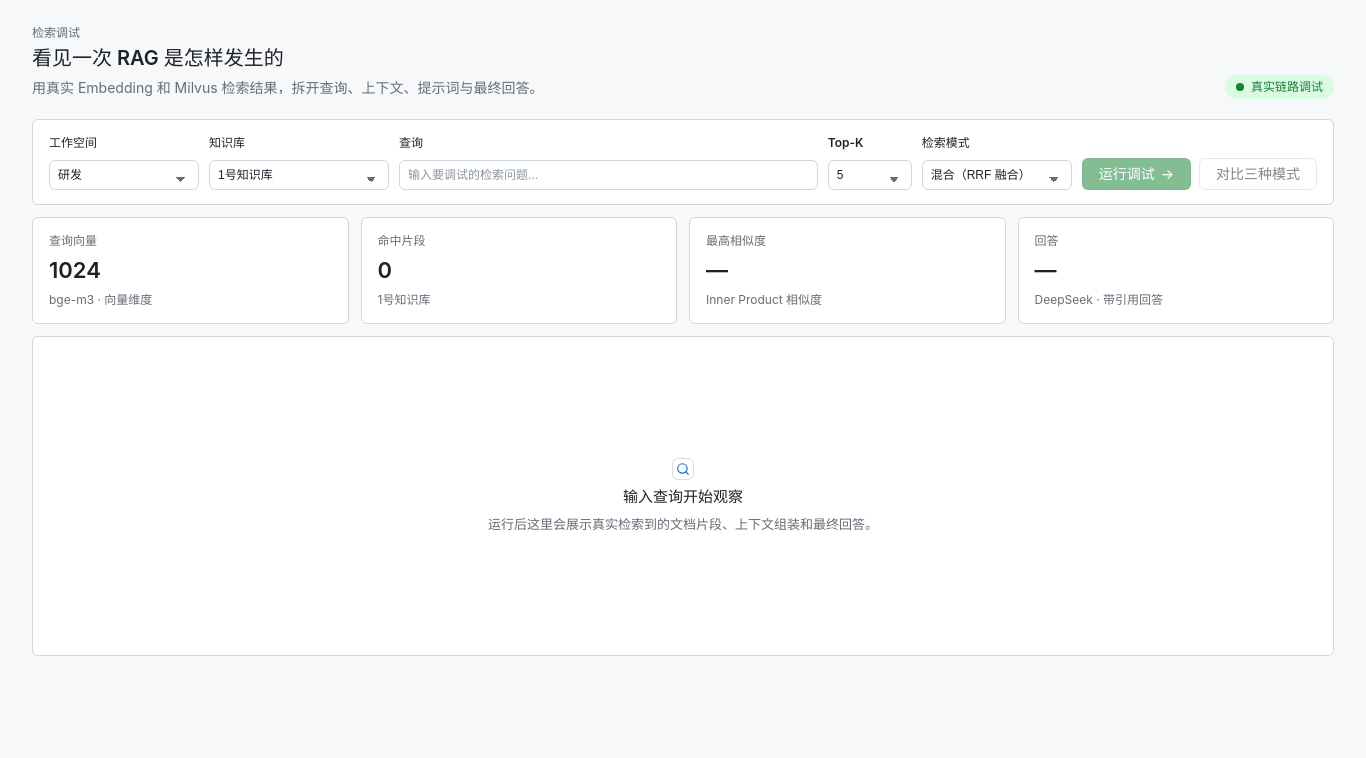
Test: 检索调试保留所选模式的结果，并把 Top-K 发给后端
Type "发布规则" into the field labelled "查询" at (608, 175), box [399,160,818,190]
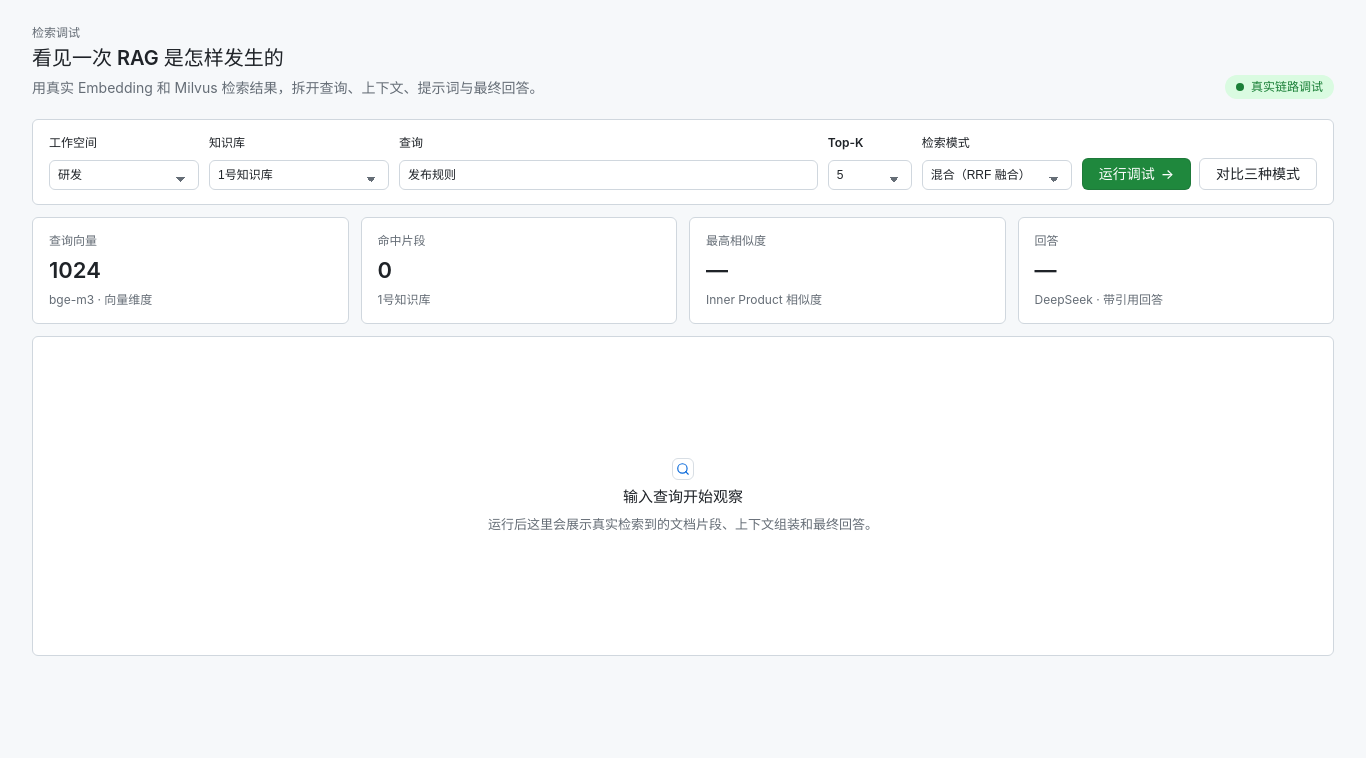
Select "10" in the dropdown labelled "Top-K" at (870, 175), box [828,160,912,190]
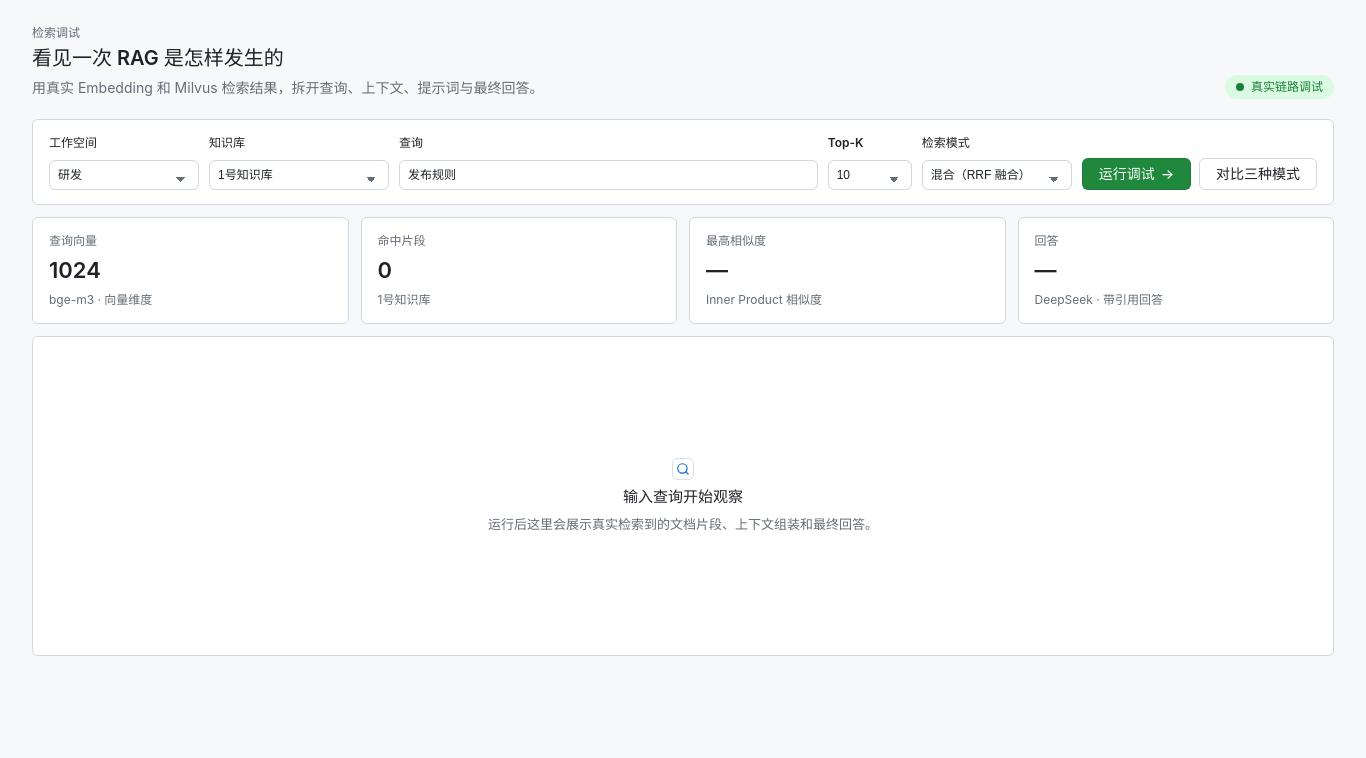
Select "BM25 关键词" in the dropdown labelled "检索模式" at (997, 175), box [922,160,1072,190]
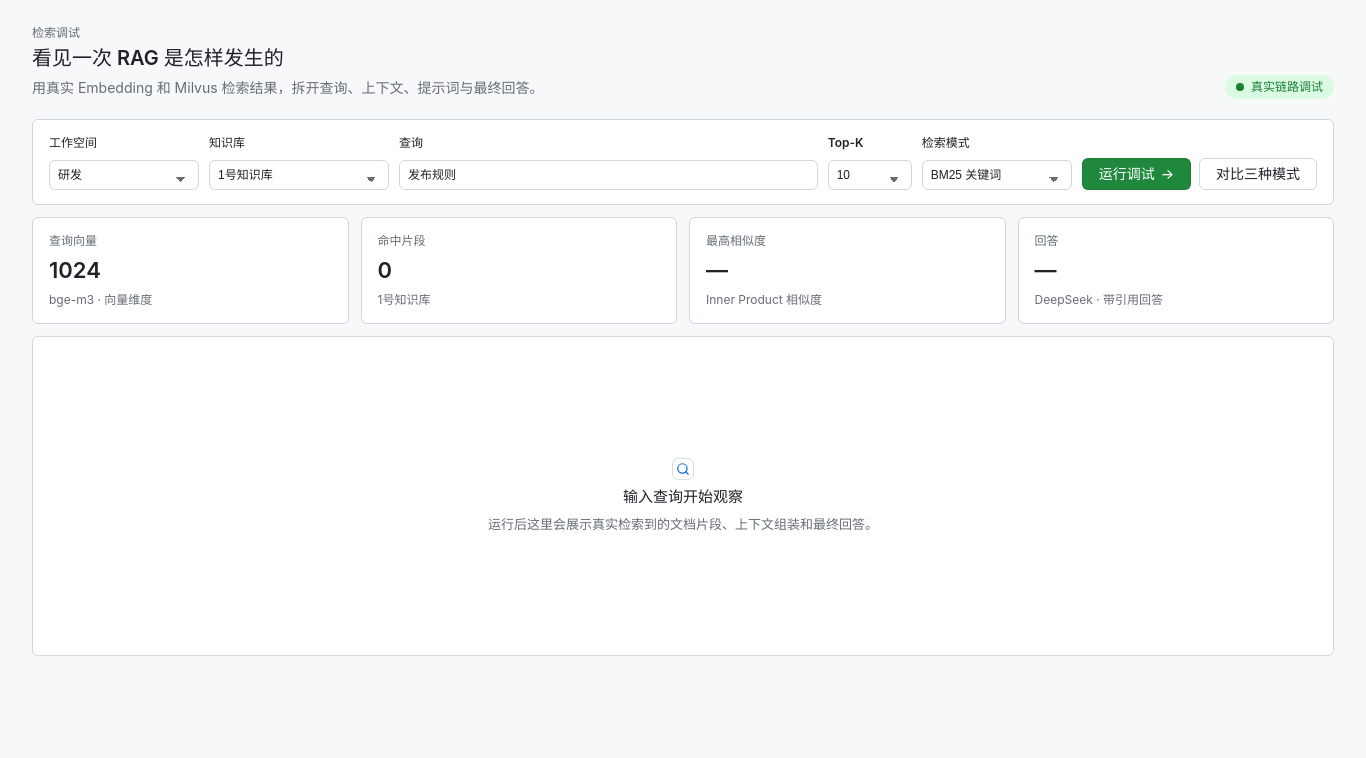
Click the button with class "retrieval-run" at (1136, 174), box [1082,158,1191,190]
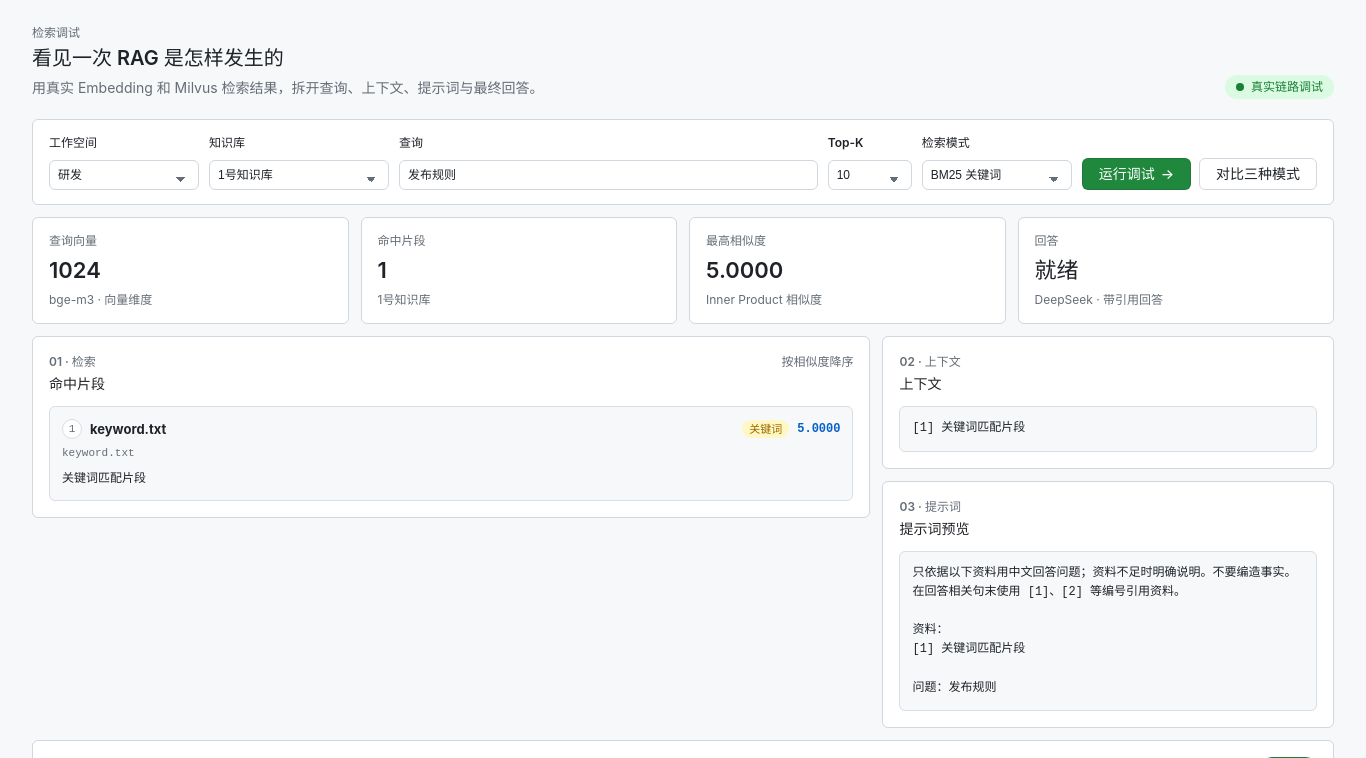
Check: the element with class "retrieval-chunk-list" shows "关键词匹配片段", box [62,470,146,485]
